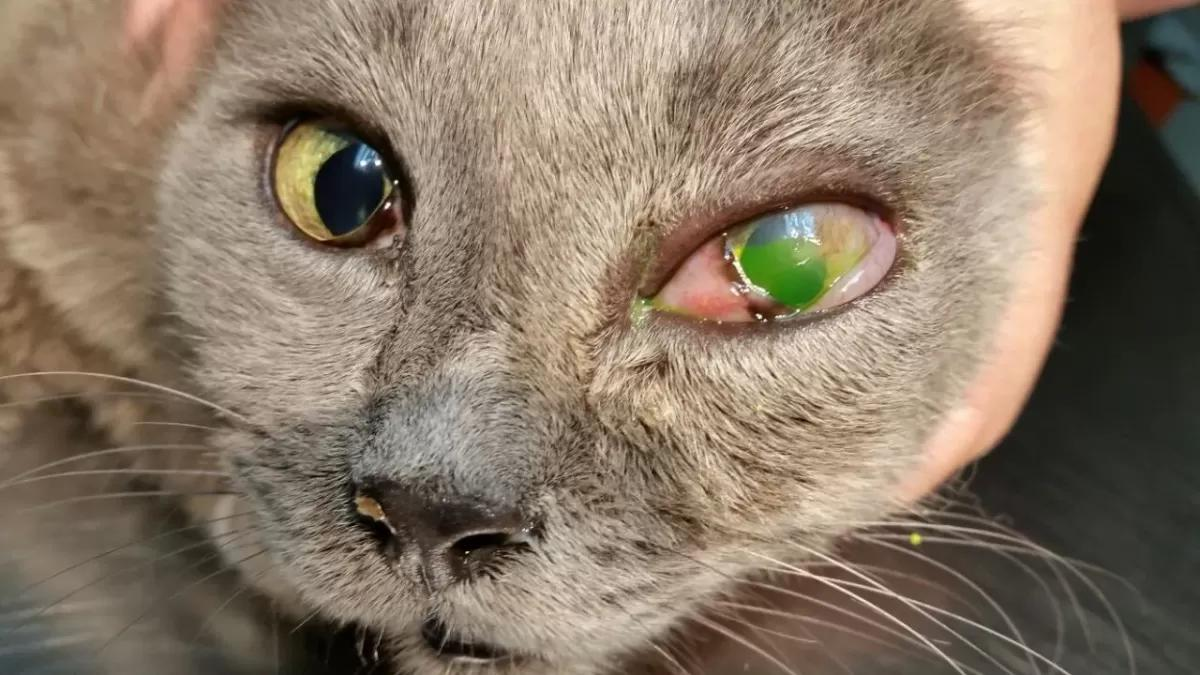eye_infection: (666, 193, 904, 311), (265, 106, 412, 259)
